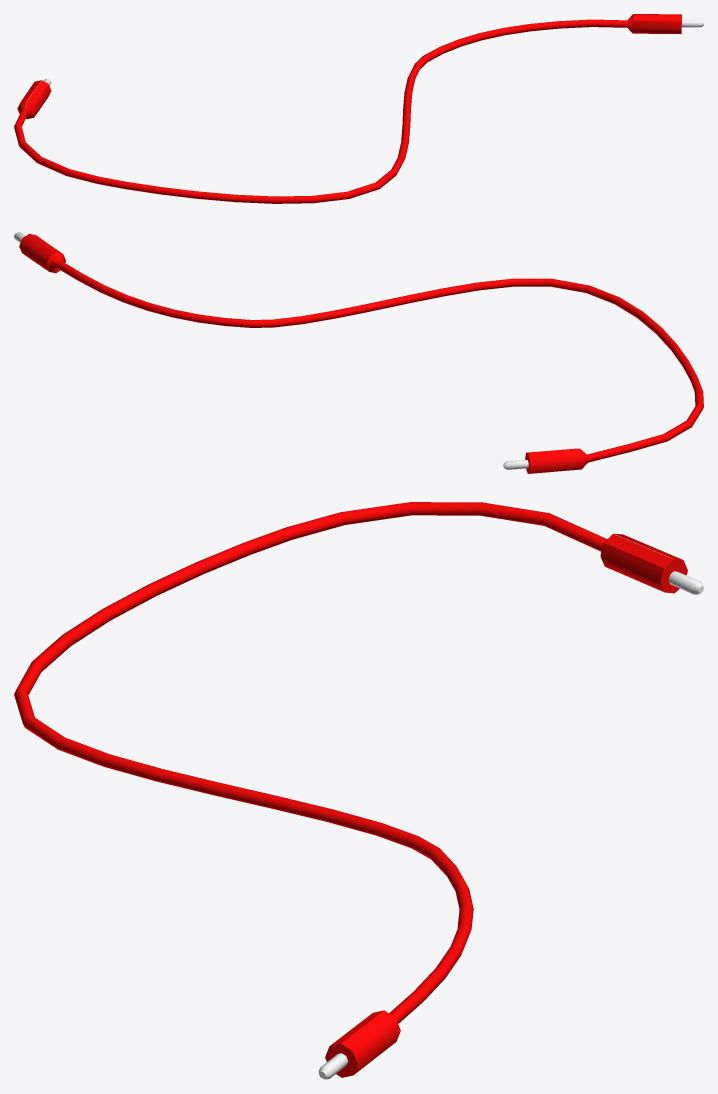
Rendered from ElectroWires02_1.FBX.
3 views of the same model, one above another, from view 1: azimuth 30°, elevation 25°; view 2: azimuth 150°, elevation 25°; view 3: azimuth 270°, elevation 25° (orthographic). The views are drawn at different scales.
Visible parts, largest first — view 1: Wires02; view 2: Wires02; view 3: Wires02.
Boxes of the visible parts, x1,y1,x2,y2 form: Wires02: (14,14,703,203); Wires02: (14,232,703,473); Wires02: (14,502,703,1079).
Size of the model in its own units: 98.19 by 2.91 by 50.47.
